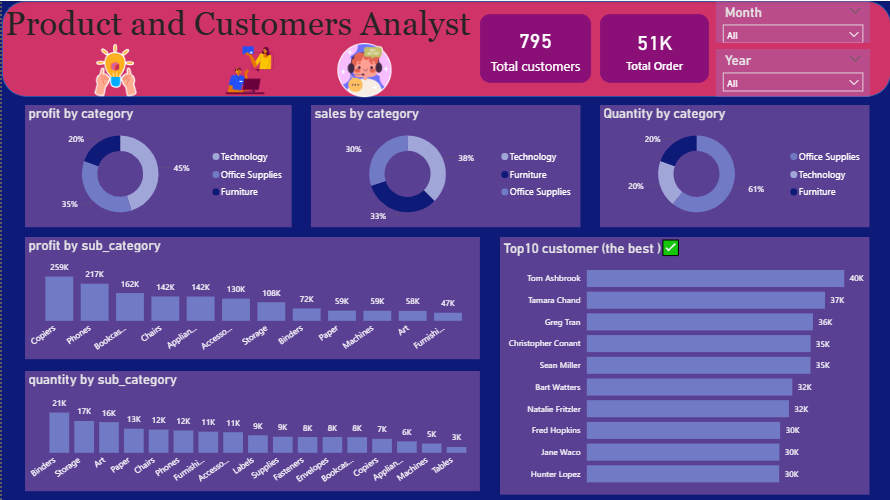

Layout of this report page (visuals, bound fields, positions):
{"tool":"powerbi","page":{"name":"Page 2","canvas":[1280,720],"ordinal":1},"visuals":[{"type":"donutChart","title":" sales by category","fields":{"Category":["SuperStoreOrders.category"],"Y":["Sum(SuperStoreOrders.sales)"]},"box":[445.1,149.5,388,176.4],"z":0},{"type":"donutChart","title":"profit by category","fields":{"Category":["SuperStoreOrders.category"],"Y":["Sum(SuperStoreOrders.profit)"]},"box":[33.6,149.5,384,176.4],"z":1000},{"type":"clusteredColumnChart","title":"quantity by sub_category","fields":{"Category":["SuperStoreOrders.sub_category"],"Y":["Sum(SuperStoreOrders.quantity)"]},"box":[33.1,532.8,655.2,172.8],"z":2000},{"type":"clusteredColumnChart","title":"profit by sub_category","fields":{"Category":["SuperStoreOrders.sub_category"],"Y":["Sum(SuperStoreOrders.profit)"]},"box":[33.1,339.8,655.2,175.7],"z":3000},{"type":"donutChart","title":" Quantity by category","fields":{"Category":["SuperStoreOrders.category"],"Y":["Sum(SuperStoreOrders.quantity)"]},"box":[861.7,149.5,388,176.4],"z":4000},{"type":"clusteredBarChart","title":"Top10 customer (the best )✅","fields":{"Category":["SuperStoreOrders.customer_name"],"Y":["Sum(SuperStoreOrders.sales)"]},"box":[717.3,339.3,532.5,371.2],"z":5000},{"type":"shape","box":[0,0,1280,137.7],"z":6000},{"type":"textbox","box":[0,0,688.3,79.2],"z":7000},{"type":"slicer","fields":{"Values":["Date table.Month"]},"box":[1028.2,0,221.8,60.5],"z":8000},{"type":"slicer","fields":{"Values":["Date table.Year"]},"box":[1028.2,69.1,221.8,69.1],"z":9000},{"type":"card","fields":{"Values":["SuperStoreOrders.Total customers"]},"box":[688.3,18.7,159.8,99.4],"z":10000},{"type":"card","fields":{"Values":["SuperStoreOrders.Total Order"]},"box":[861.1,18.7,157,99.4],"z":11000},{"type":"image","box":[445,60.5,154.1,77.8],"z":12000},{"type":"image","box":[252,60.5,208.8,77.8],"z":13000},{"type":"image","box":[59,60.5,208.8,77.8],"z":14000}]}

Visuals, with their boxes in screenshot pixels (x1, y1, x2, y2), scaled from the page's 1280x720 canvas onto the 890x500 screenshot:
" sales by category" donutChart: 309/104/579/226
"profit by category" donutChart: 23/104/290/226
"quantity by sub_category" clusteredColumnChart: 23/370/479/490
"profit by sub_category" clusteredColumnChart: 23/236/479/358
" Quantity by category" donutChart: 599/104/869/226
"Top10 customer (the best )✅" clusteredBarChart: 499/236/869/493
shape: 0/0/889/96
textbox: 0/0/479/55
slicer - Date table.Month: 715/0/869/42
slicer - Date table.Year: 715/48/869/96
card - SuperStoreOrders.Total customers: 479/13/590/82
card - SuperStoreOrders.Total Order: 599/13/708/82
image: 309/42/417/96
image: 175/42/320/96
image: 41/42/186/96
